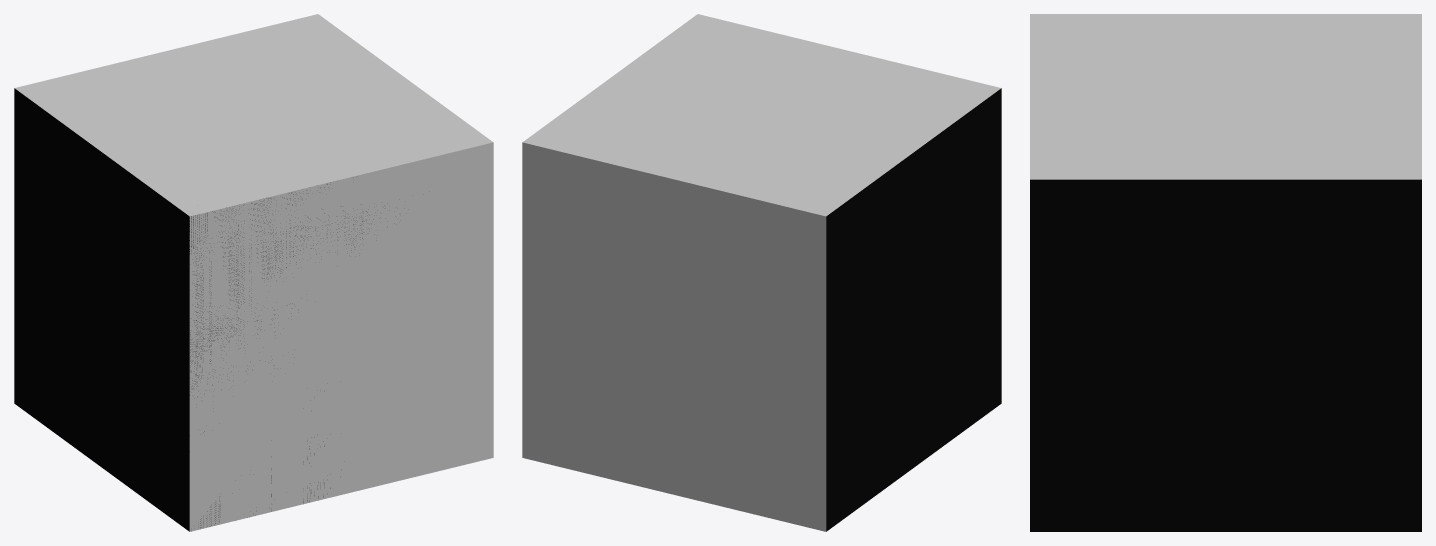
Rendered from plate_stack_02.DAE.
3 views of the same model, side by side, from view 1: azimuth 30°, elevation 25°; view 2: azimuth 150°, elevation 25°; view 3: azimuth 270°, elevation 25° (orthographic). The views are drawn at different scales.
Parts seen in each view (by area): view 1: bounds, colbox-1; view 2: bounds, colbox-1; view 3: colbox-1, bounds.
Boxes of the visible parts, x1,y1,x2,y2 form: bounds: [14, 14, 493, 531]; colbox-1: [14, 88, 373, 531]; bounds: [522, 14, 1001, 531]; colbox-1: [826, 88, 1001, 531]; colbox-1: [1030, 179, 1421, 531]; bounds: [1030, 14, 1421, 179].
Bounding box in the file's own units: 23.58 × 23.57 × 23.39.
